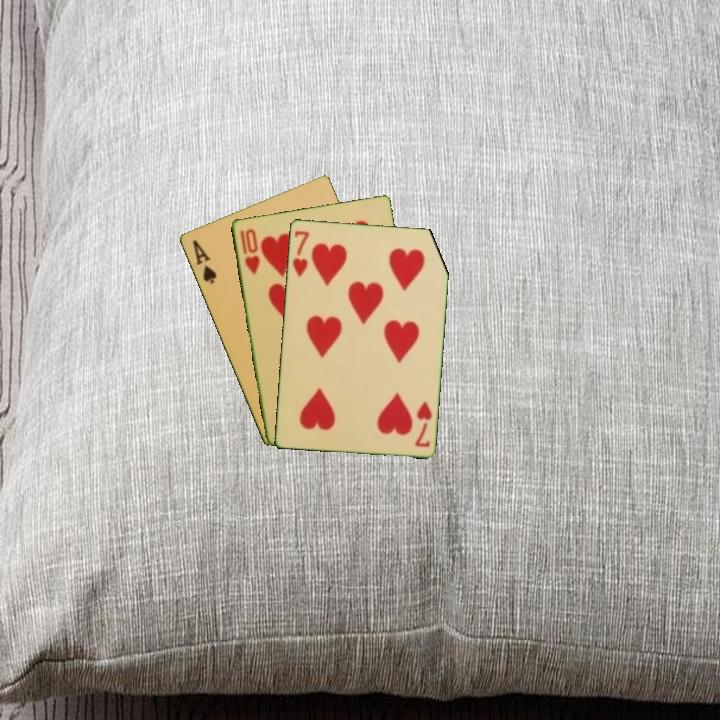10h: (236, 225, 262, 277)
7h: (289, 227, 312, 280), (411, 397, 434, 449)
As: (189, 236, 219, 287)
